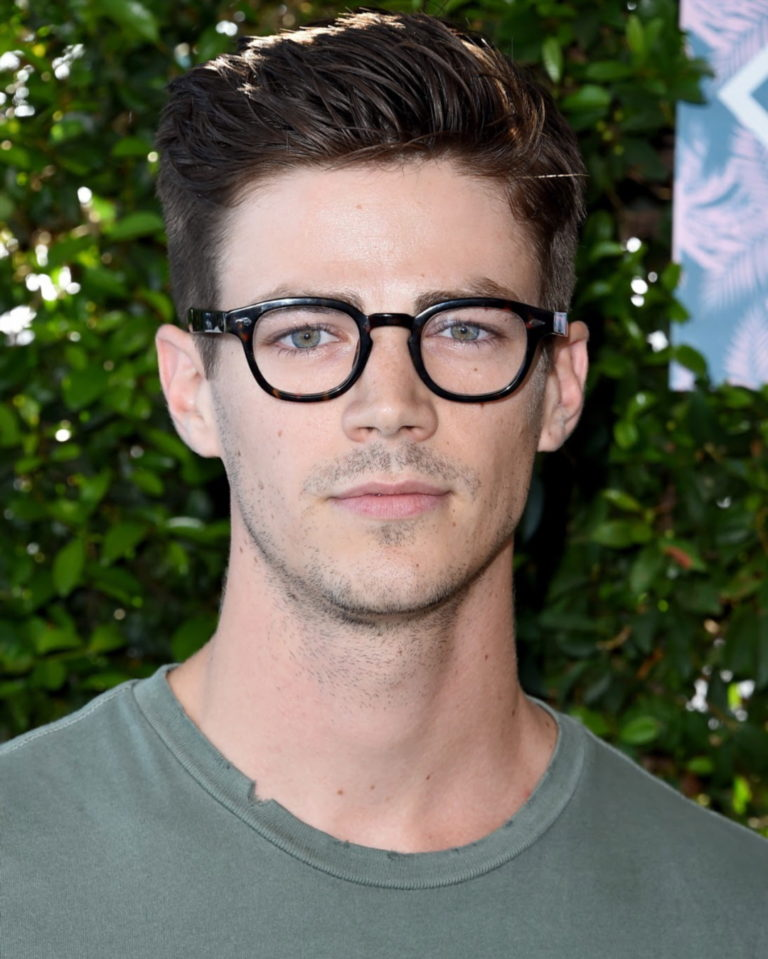bare: (203, 364, 570, 614)
